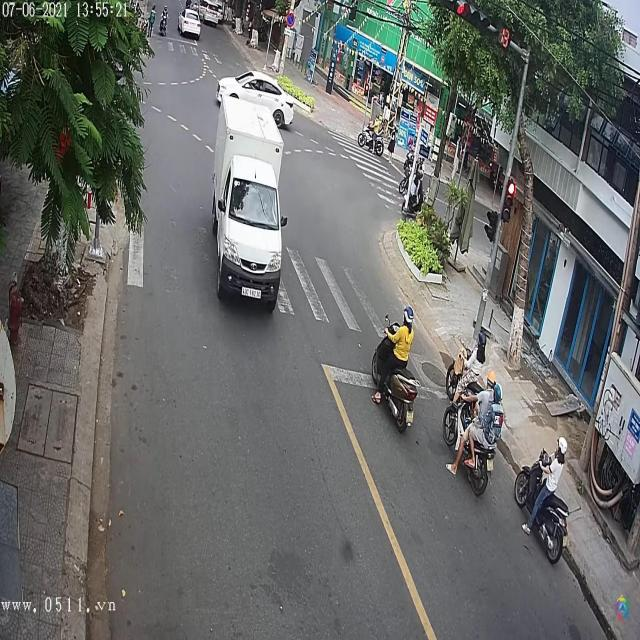car: (220, 74, 300, 135), (179, 6, 204, 40)
motorcycle: (444, 368, 505, 499), (514, 442, 570, 568), (371, 367, 418, 432), (357, 119, 385, 157)
truck: (212, 81, 286, 308)
